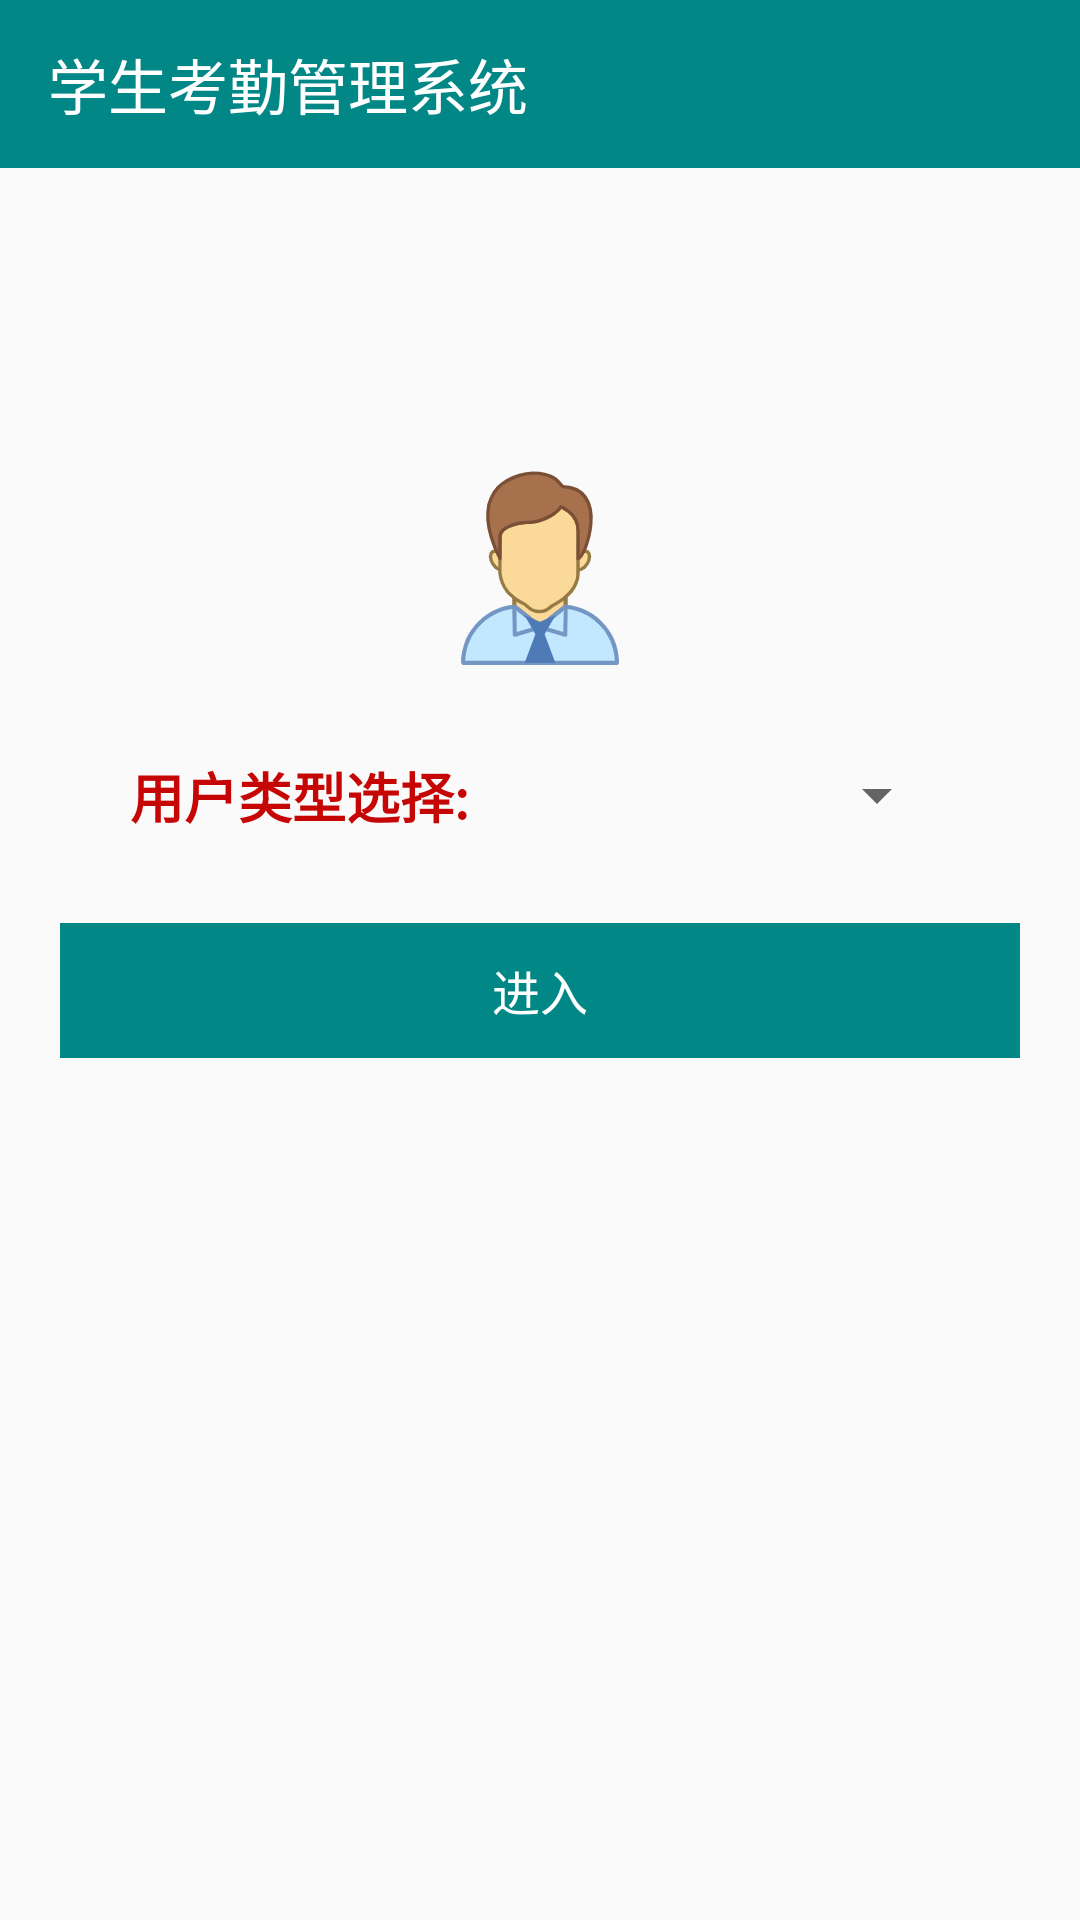

Icon bounding boxes for this 1080*1920 phone screenshot, format bbox=(x1, y1, x2, y2):
manager: bbox=(461, 471, 619, 665)
